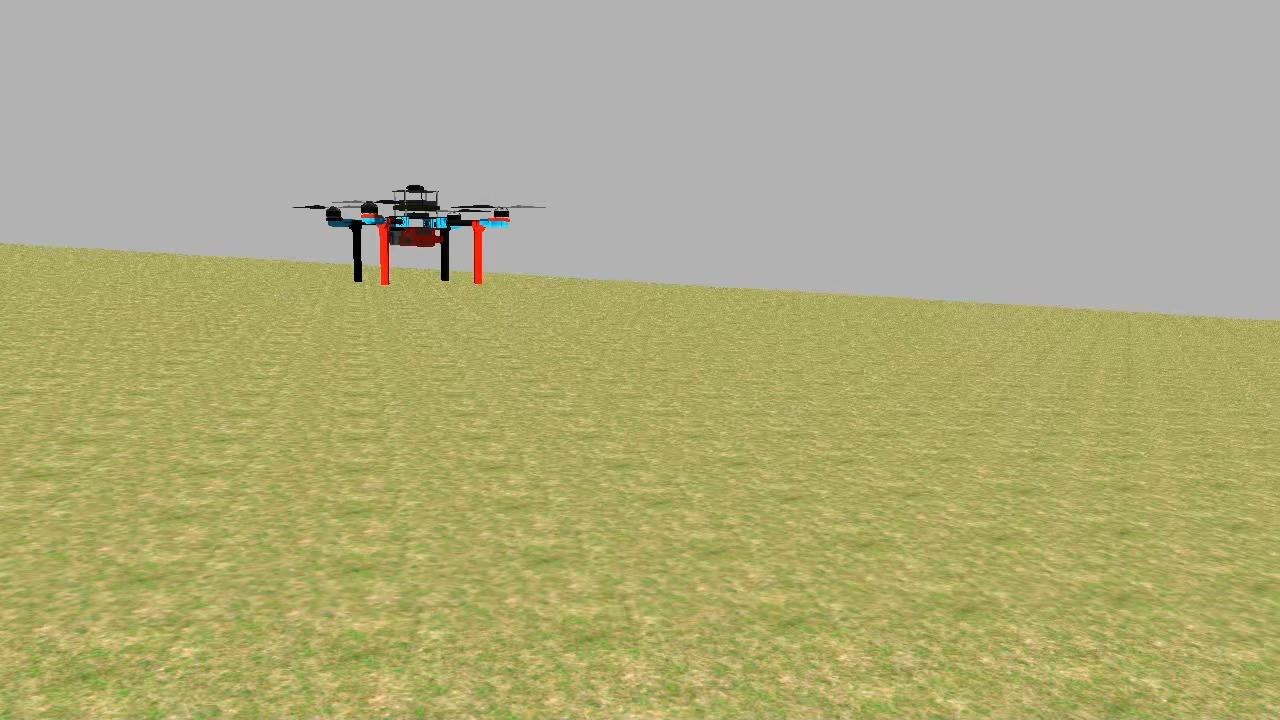UAV: (314, 176, 518, 292)
